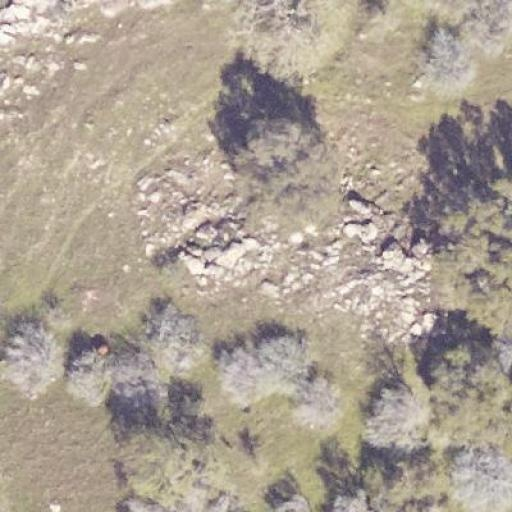tree-top: (224, 112, 358, 250), (418, 168, 510, 339), (416, 336, 511, 456), (111, 418, 238, 496), (234, 0, 328, 86), (130, 298, 216, 382), (0, 316, 79, 402), (356, 448, 462, 511), (205, 334, 276, 410), (408, 27, 484, 97), (442, 439, 510, 511), (360, 379, 428, 450), (284, 370, 351, 436)
